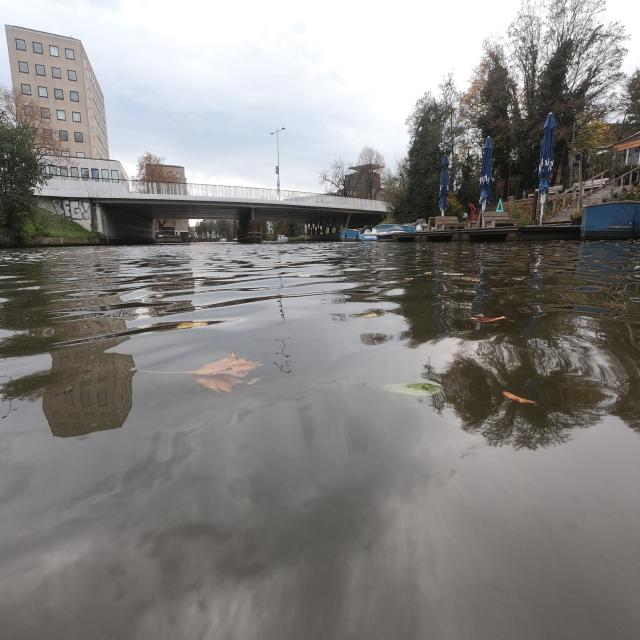boat: (376, 224, 416, 241), (340, 226, 377, 241)
dock: (391, 217, 630, 243)
grass: (14, 206, 104, 244)
sky: (0, 4, 518, 186)
tree: (394, 4, 638, 218), (0, 121, 45, 241)
wall: (50, 198, 153, 242)
water: (0, 240, 640, 640)
